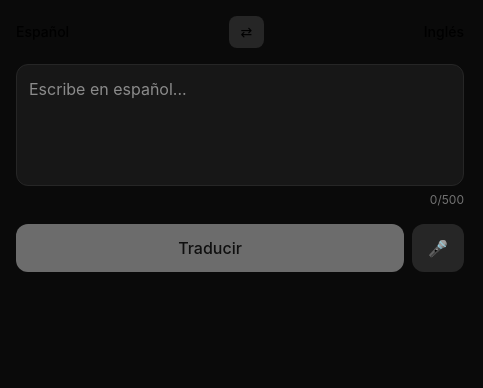
Test: TranslatePage (voz) › dictar rellena el texto y lo traduce con el idioma de origen
This screenshot has width=483, height=388.
Click the button named "Hablar": (438, 248) [412,224,464,272]
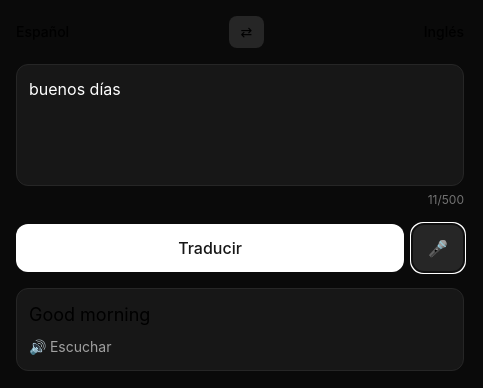
Now the text box named "Texto a traducir" holds "buenos días", box [16,64,464,186]
